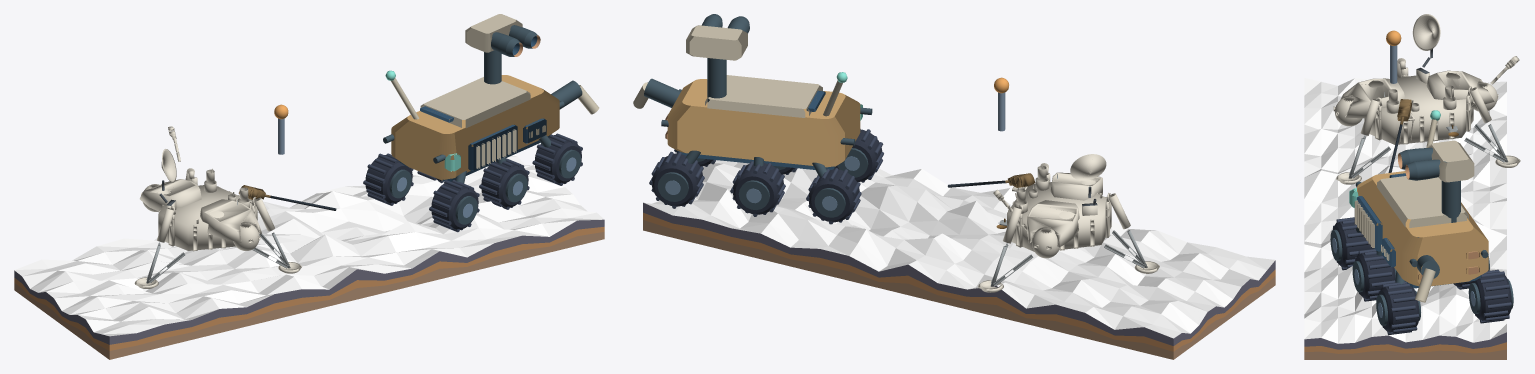
The model's file is apolo-falcon.obj.
3 renders of one model, left to right at view 1: azimuth 30°, elevation 25°; view 2: azimuth 150°, elevation 25°; view 3: azimuth 270°, elevation 25°, orthographic. The views are drawn at different scales.
Visible parts, largest first — view 1: apolo-falcon; view 2: apolo-falcon; view 3: apolo-falcon.
Part boxes in pixels (x1,y1,x2,y2): apolo-falcon: (14, 14, 604, 359); apolo-falcon: (633, 14, 1275, 359); apolo-falcon: (1304, 14, 1520, 359).
Size of the model in its own units: 1.78 by 0.5481 by 0.5764.
